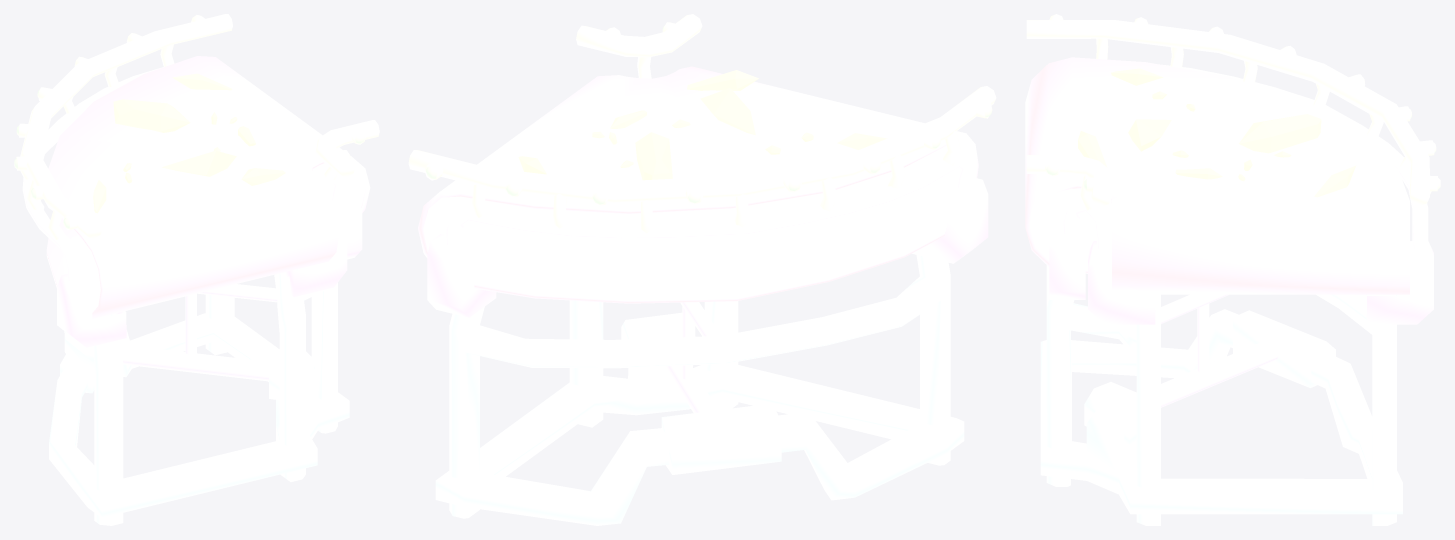
File: Conveyor_turn_crystal_2.glb
3 views of the same model, side by side, from view 1: azimuth 30°, elevation 25°; view 2: azimuth 150°, elevation 25°; view 3: azimuth 270°, elevation 25° (orthographic). The views are drawn at different scales.
Visible parts, largest first — view 1: ConveyorBeltTurnWCrystal_2; view 2: ConveyorBeltTurnWCrystal_2; view 3: ConveyorBeltTurnWCrystal_2.
Part boxes in pixels (x1,y1,x2,y2): ConveyorBeltTurnWCrystal_2: (14, 14, 379, 525); ConveyorBeltTurnWCrystal_2: (408, 14, 996, 525); ConveyorBeltTurnWCrystal_2: (1025, 14, 1440, 525).
Bounding box in the file's own units: 0.6954 × 0.6362 × 0.6905.
